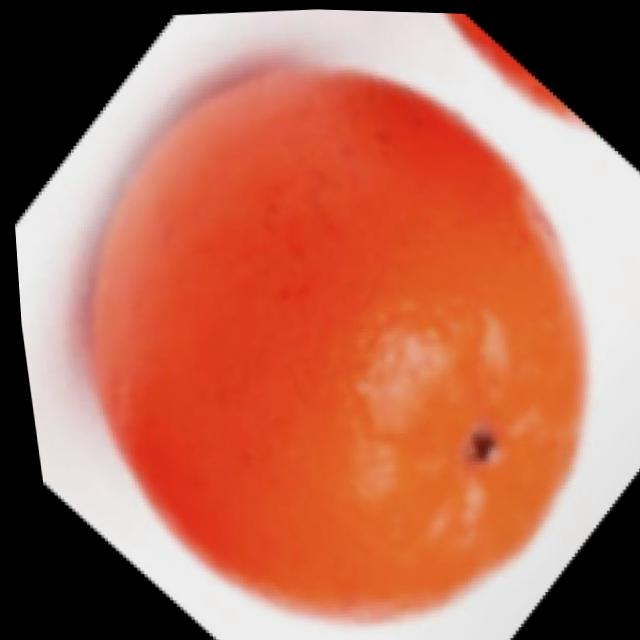Orange: (50, 41, 617, 640)
